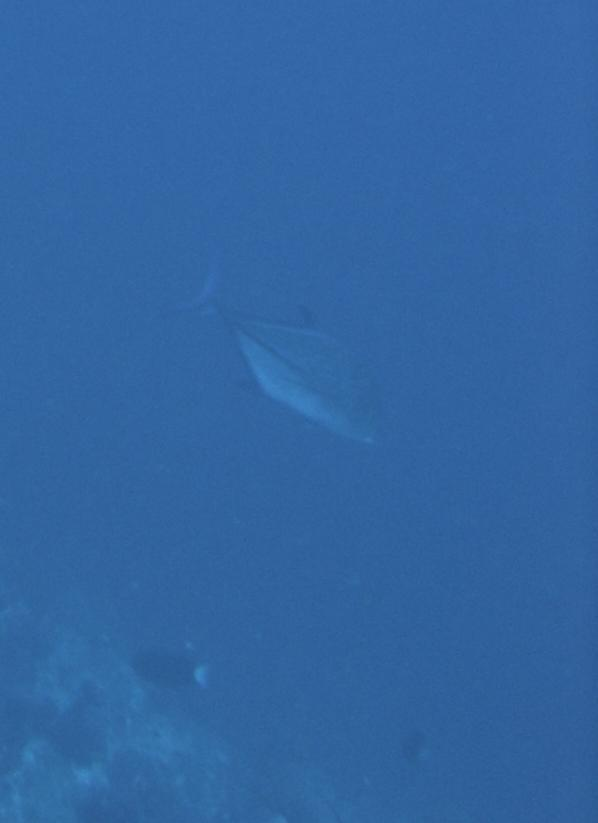Fish: (129, 197, 444, 532)
